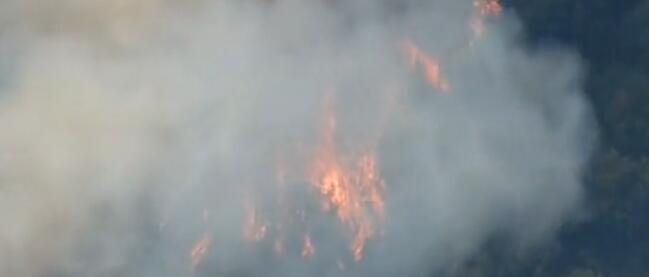fire: (186, 102, 392, 269)
yanwu: (1, 0, 609, 274)
